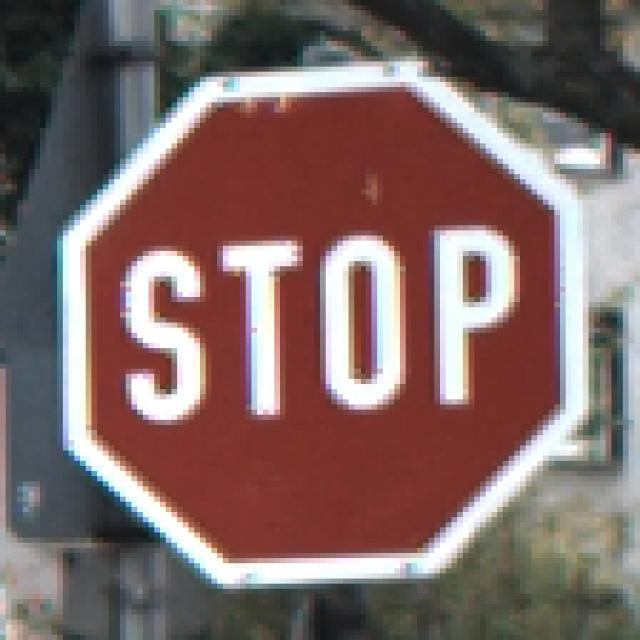STOP: (53, 57, 590, 590)
